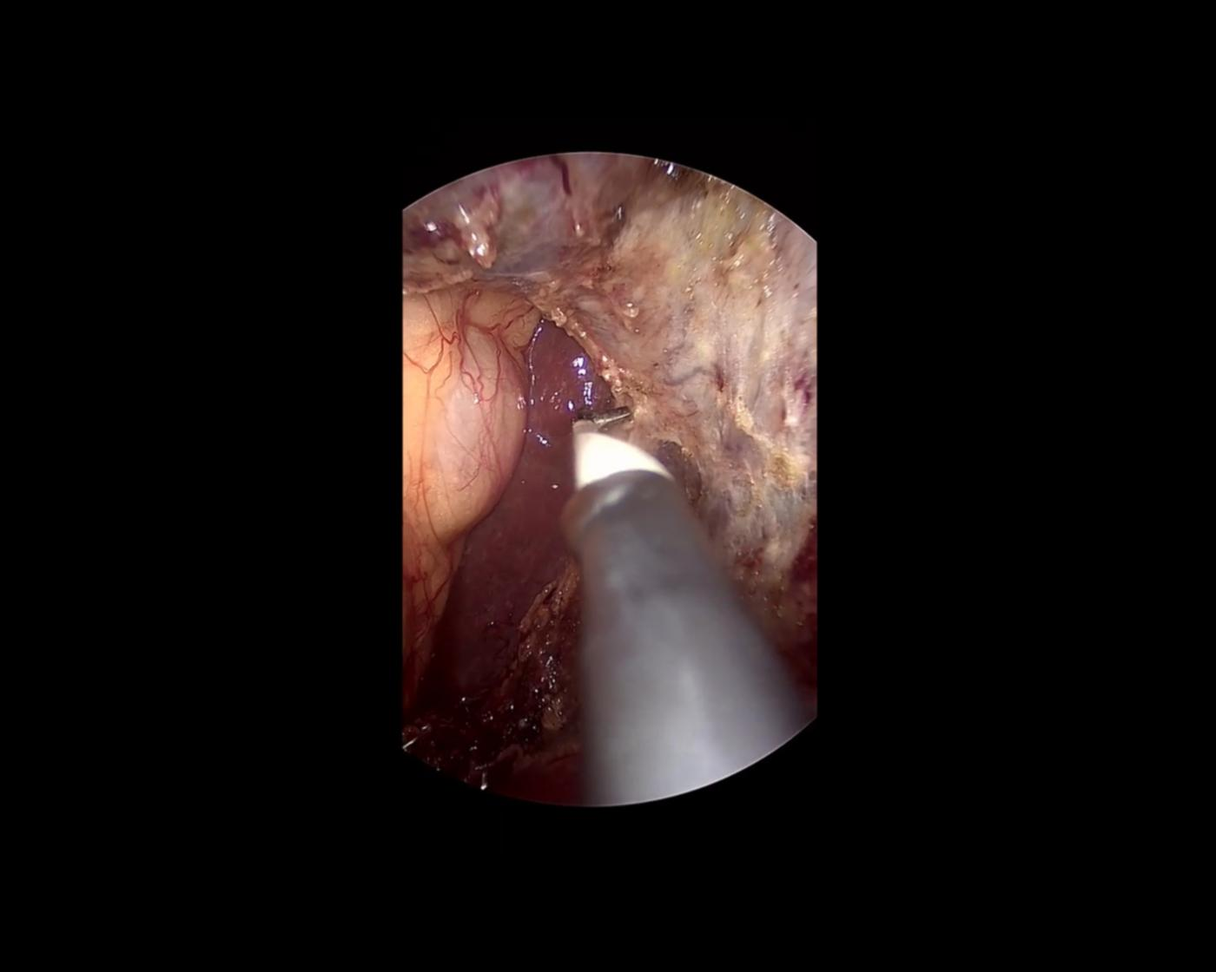Cautery: (496, 381, 821, 811)
Gallbladder: (382, 135, 675, 310)
Liver: (414, 316, 628, 727)
